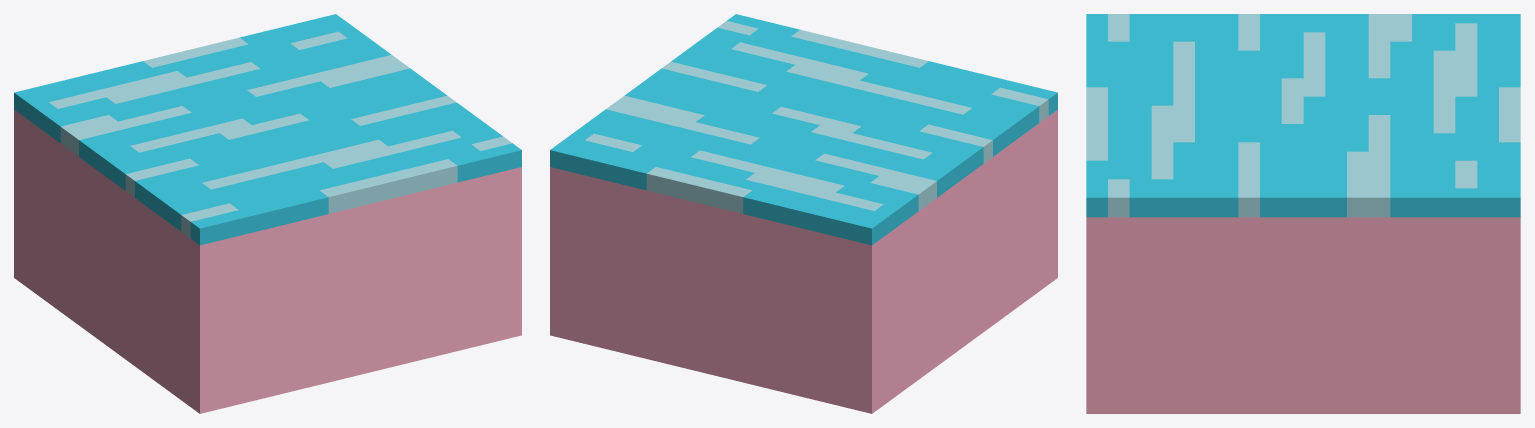
Rendered from GroundIce.obj.
The picture shows the model from 3 angles, left to right: view 1: azimuth 30°, elevation 25°; view 2: azimuth 150°, elevation 25°; view 3: azimuth 270°, elevation 25°; orthographic projection. The views are drawn at different scales.
Bounding box in the file's own units: 2 × 1.1 × 2.
